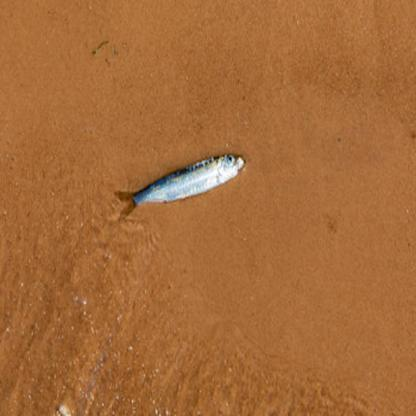deceased fish: (113, 150, 251, 225)
